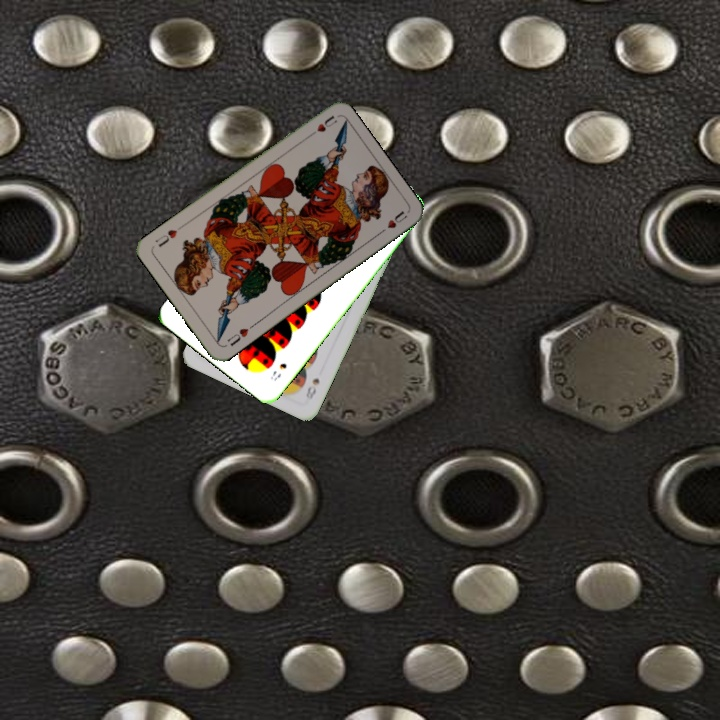HU: (303, 112, 340, 141), (223, 320, 257, 349)
S8: (302, 374, 322, 403), (266, 359, 289, 383)
